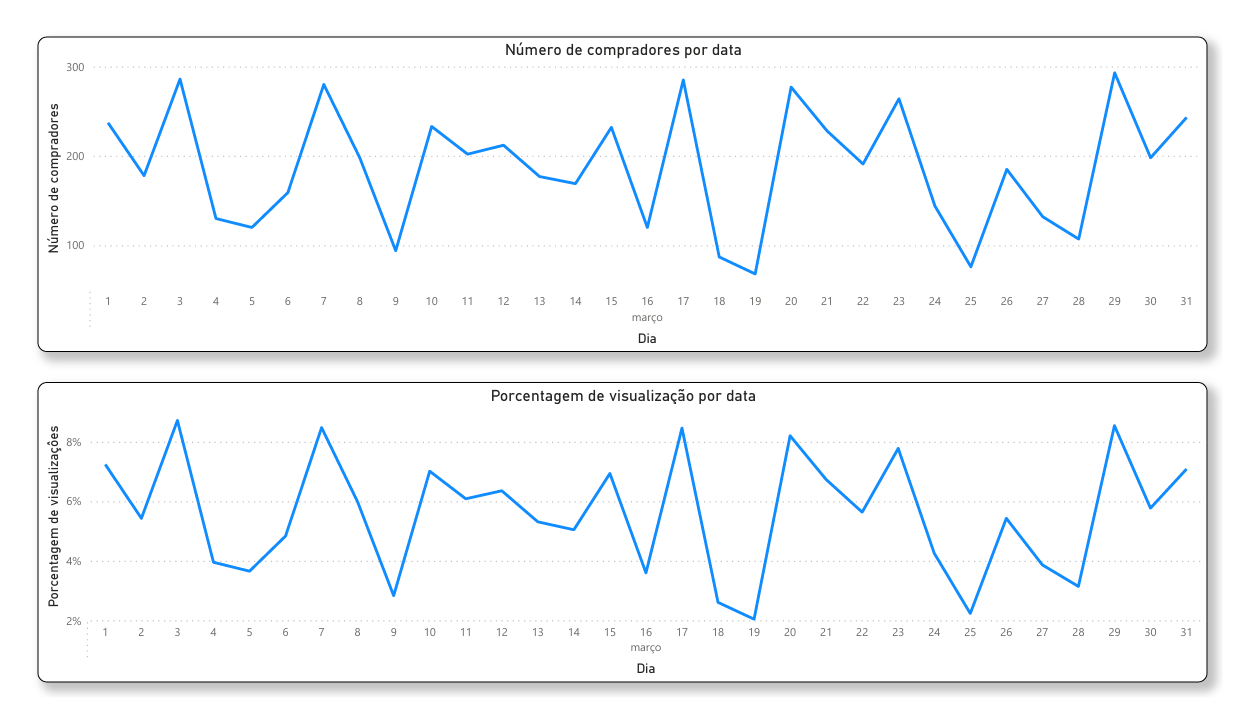

This screenshot's page, from the dashboard's own definition file:
{"tool":"powerbi","page":{"name":"Page 1","canvas":[1280,720],"ordinal":1},"visuals":[{"type":"lineChart","title":"Número de compradores por data","fields":{"Y":["Sum(Planilha1.Número de Compradores)"],"Category":["Planilha1.Data.Variation.Hierarquia de datas.Mês","Planilha1.Data.Variation.Hierarquia de datas.Dia"]},"box":[16,16,1248,336],"z":0},{"type":"lineChart","title":"Porcentagem de visualização por data","fields":{"Category":["Planilha1.Data.Variation.Hierarquia de datas.Mês","Planilha1.Data.Variation.Hierarquia de datas.Dia"],"Y":["Sum(Planilha1.Porcentagem de visualização)"]},"box":[16,384,1248,320],"z":1000}]}

Visuals, with their boxes in screenshot pixels (x1, y1, x2, y2), scaled from the page's 1280x720 canvas onto the 1242x717 screenshot:
"Número de compradores por data" lineChart: <region>16, 16, 1226, 351</region>
"Porcentagem de visualização por data" lineChart: <region>16, 382, 1226, 701</region>
